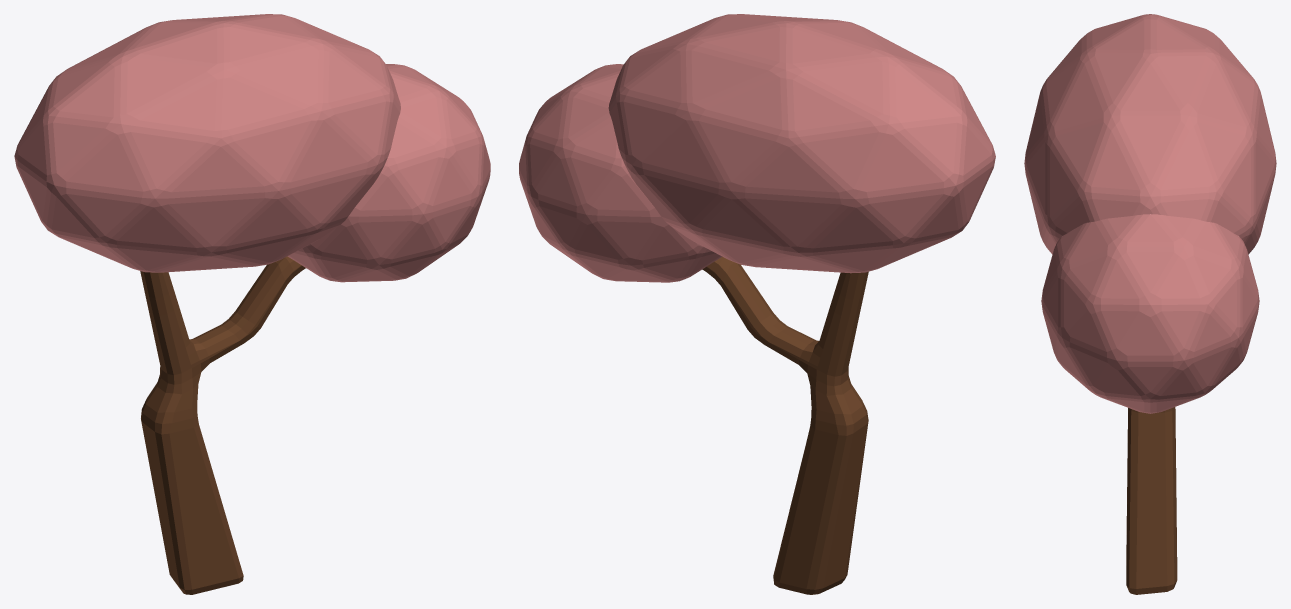
Rendered from sakura.fbx.
The picture shows the model from 3 angles, left to right: view 1: azimuth 30°, elevation 25°; view 2: azimuth 150°, elevation 25°; view 3: azimuth 270°, elevation 25°; orthographic projection. The views are drawn at different scales.
Parts seen in each view (by area): view 1: Ağaç; view 2: Ağaç; view 3: Ağaç.
Boxes of the visible parts, box(x1,y1,x2,y2) form: Ağaç: box(14, 14, 490, 594); Ağaç: box(519, 14, 995, 594); Ağaç: box(1024, 14, 1276, 594).
Bounding box in the file's own units: 61.37 × 73.66 × 31.23.
